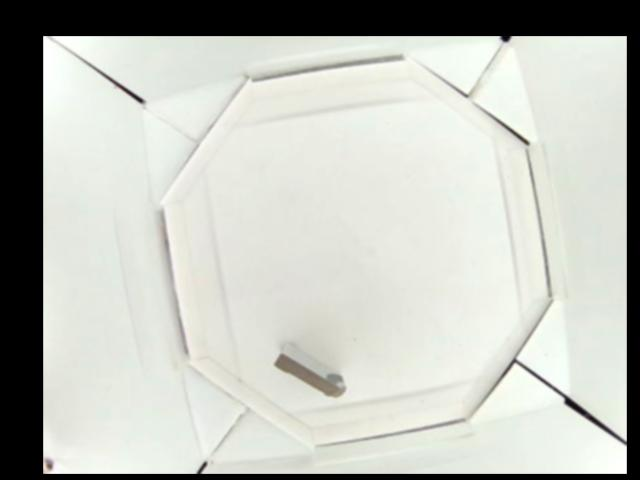China: (274, 343, 346, 396)
